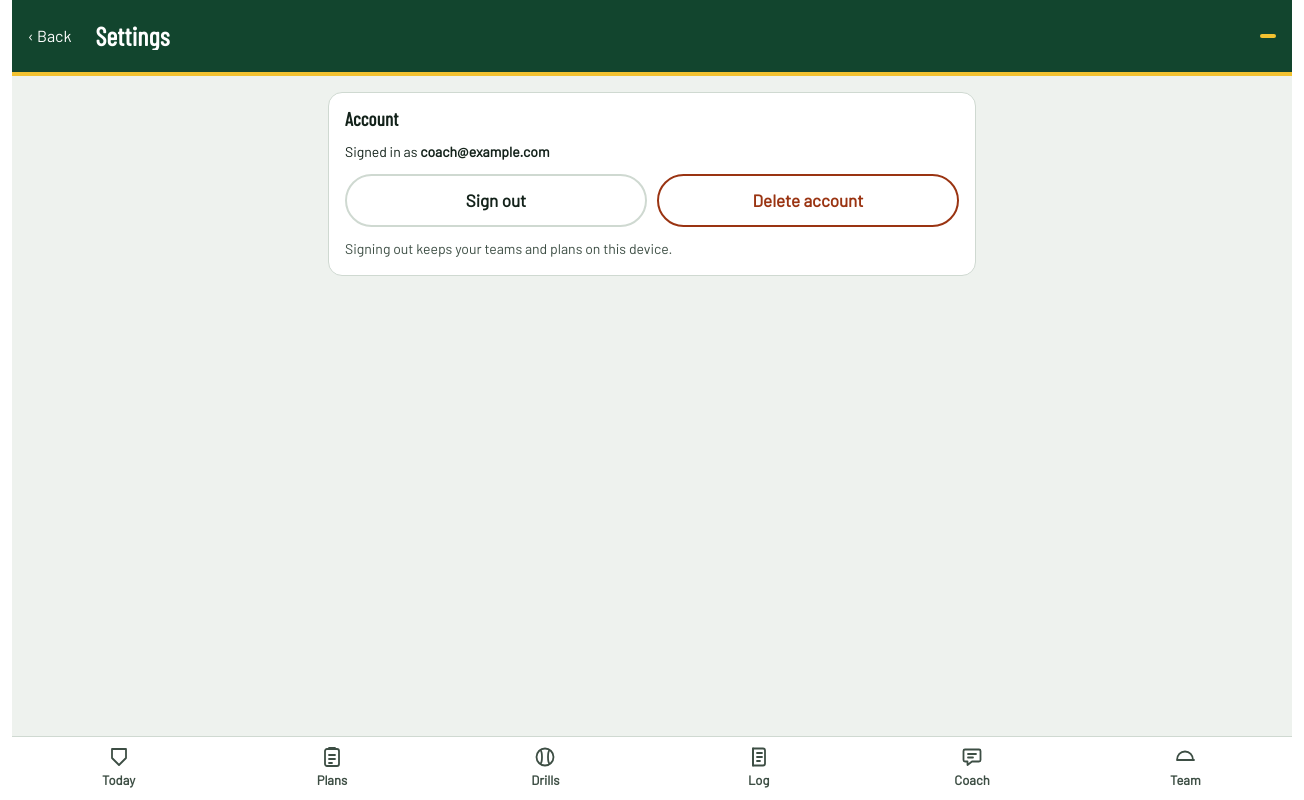
Test: settings page: account, share and donate › keeps the account when the server refuses
Click the button "Delete account" at (808, 200), box [657, 174, 959, 227]
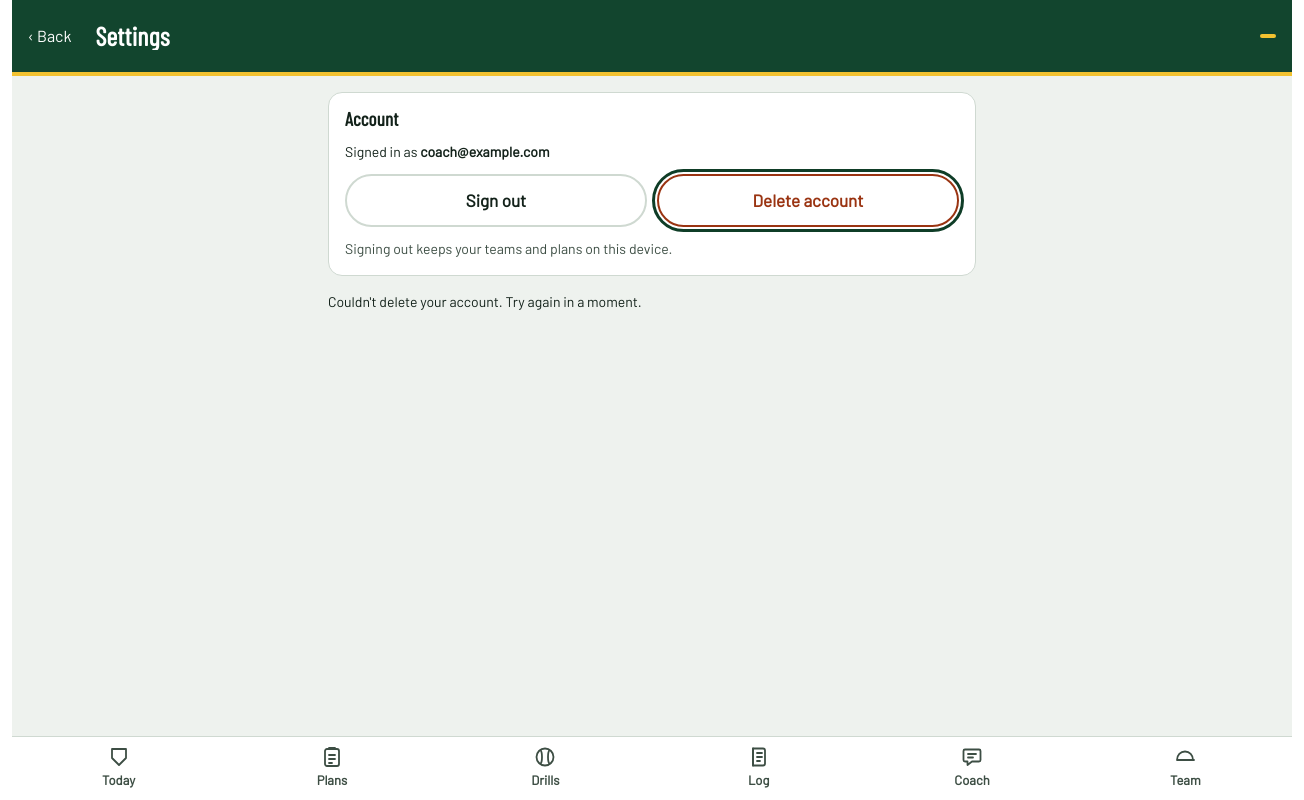
Result: the message shows "Couldn't delete your account" at [328, 293, 642, 310]
